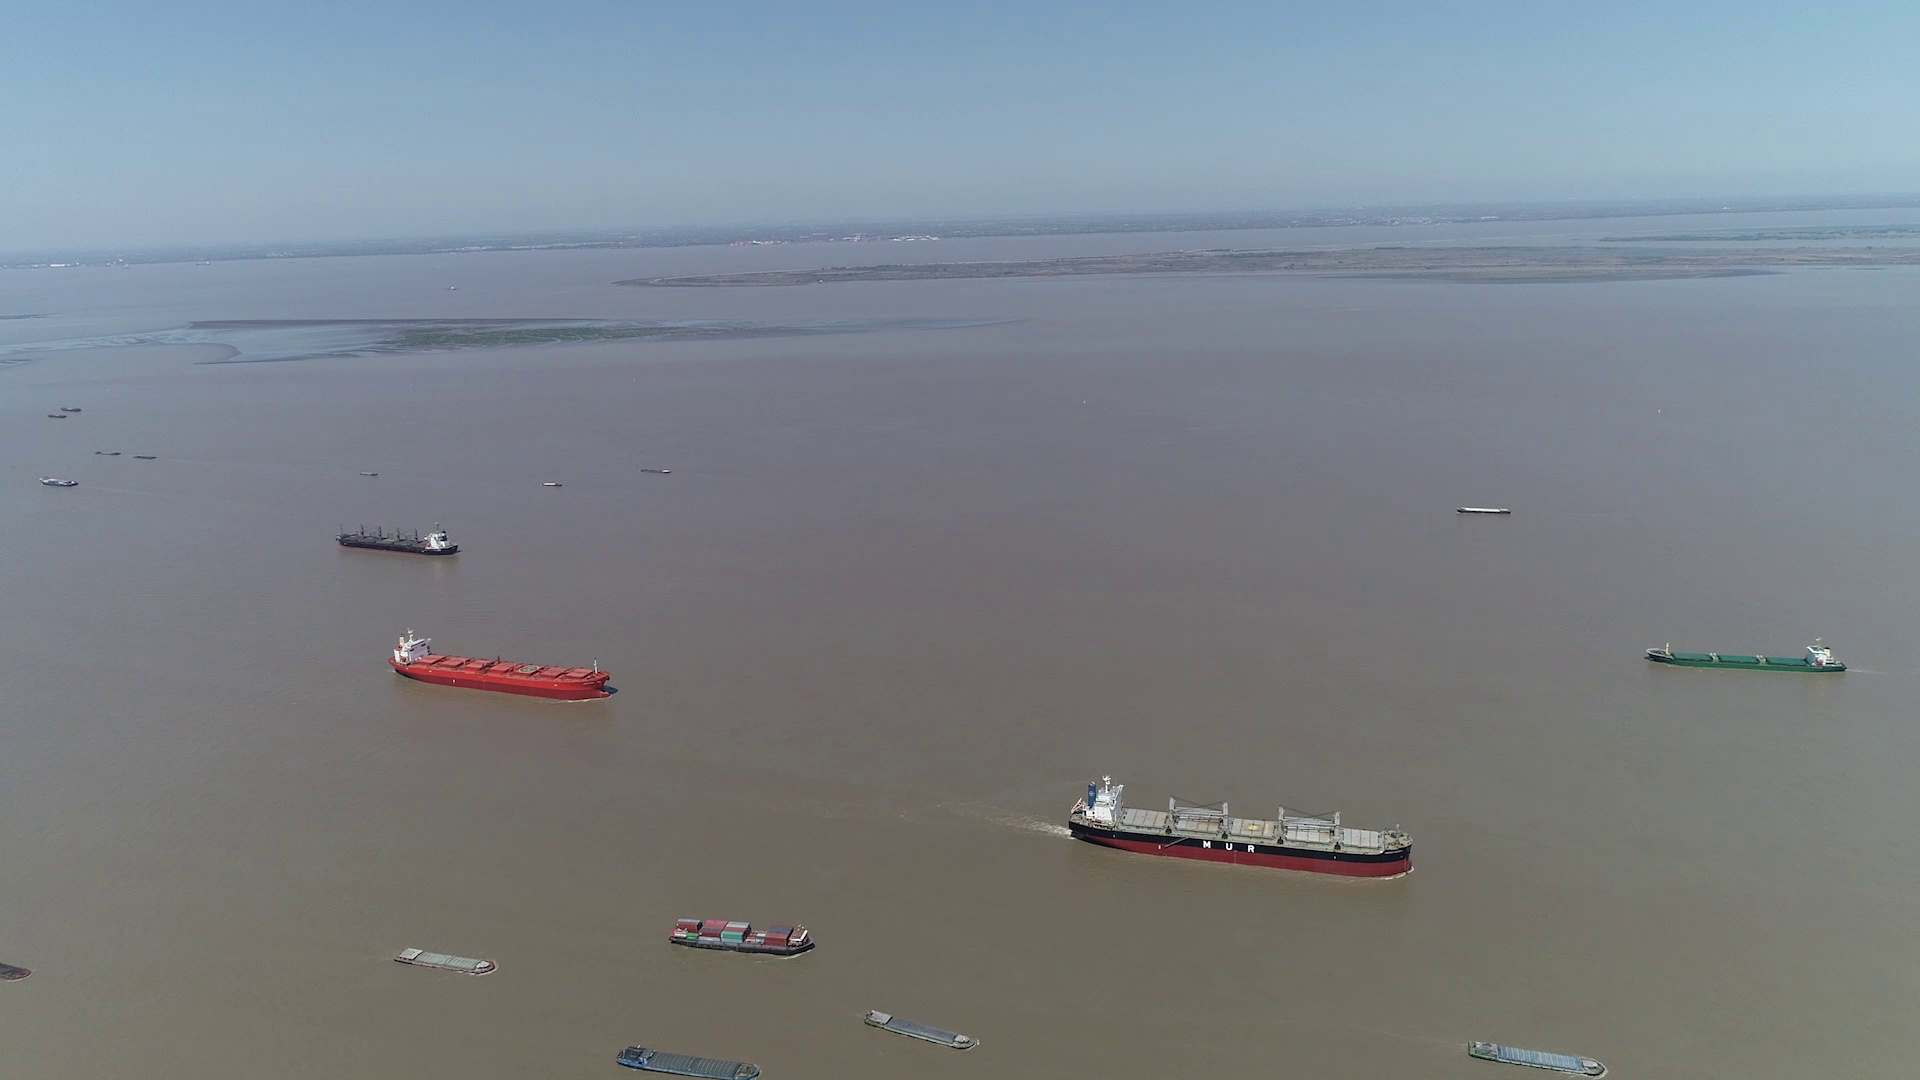ship: (1065, 777, 1418, 878), (390, 632, 611, 700), (1650, 641, 1846, 673), (670, 919, 814, 956), (1469, 1040, 1606, 1077), (613, 1046, 764, 1079), (865, 1009, 975, 1054), (338, 521, 460, 555), (394, 947, 495, 975), (0, 956, 30, 982), (1456, 505, 1511, 516), (40, 476, 80, 488)
